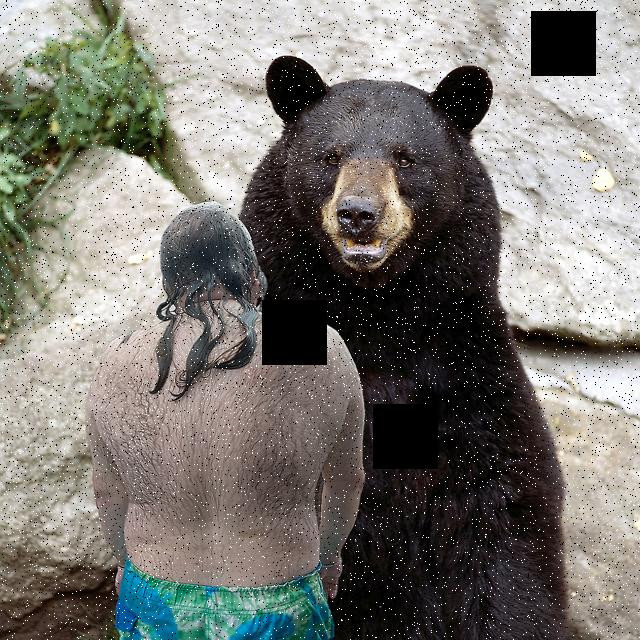Bear: (192, 31, 589, 640)
